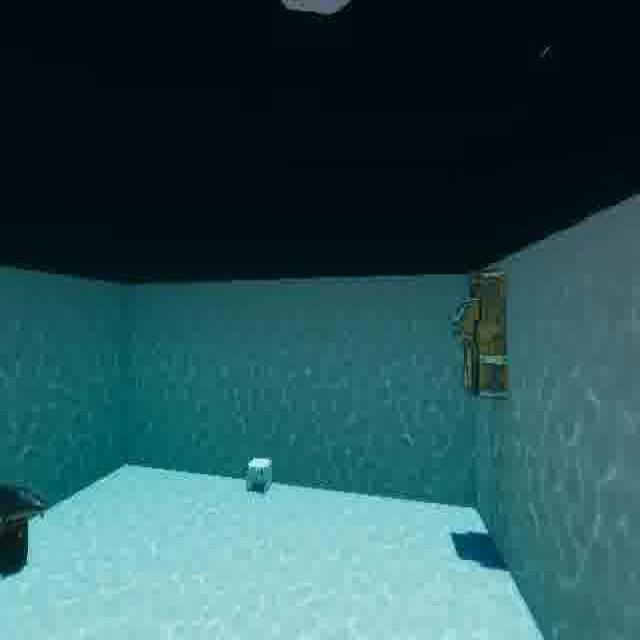Control Panel: (447, 262, 516, 404)
Cylinder: (0, 514, 32, 579)
Docking Station: (241, 447, 280, 501)
Whale: (0, 462, 52, 524)
